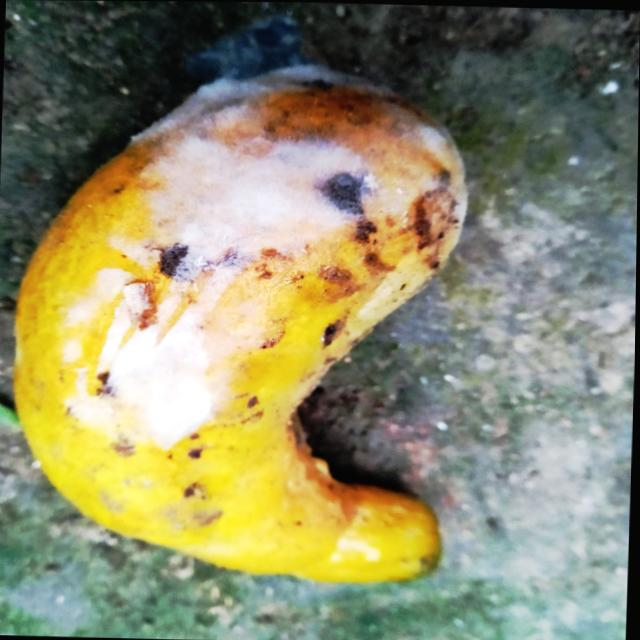Pythium-Fruit-Rot: (63, 59, 470, 456)
